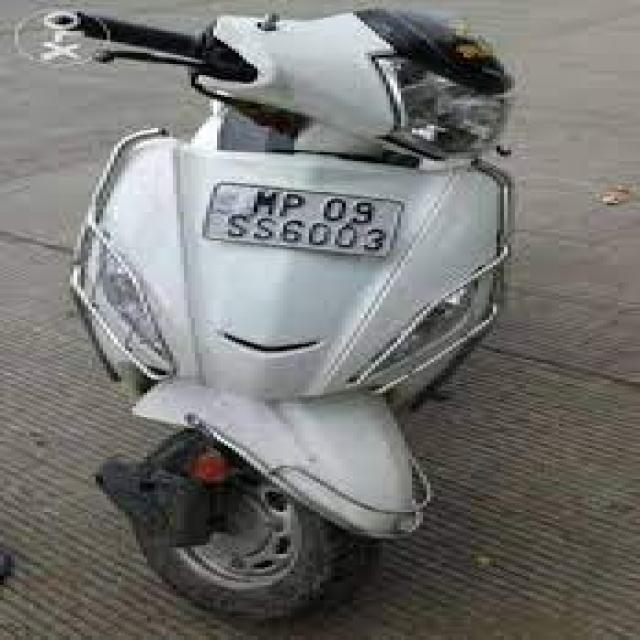license_plate: (198, 179, 404, 258)
